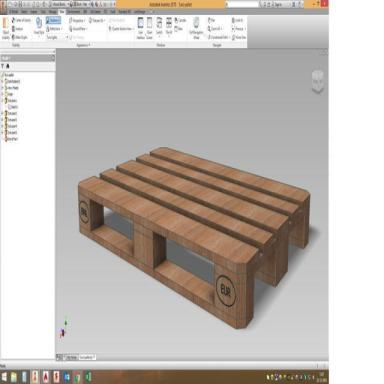pallet: (78, 146, 310, 329), (167, 238, 214, 285)
